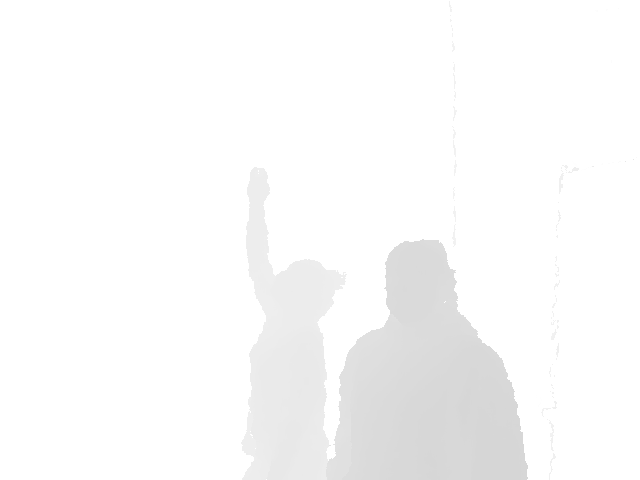hand: (246, 165, 271, 207)
head: (384, 239, 460, 325), (268, 257, 334, 327)
person: (324, 239, 530, 480), (240, 165, 347, 480)
